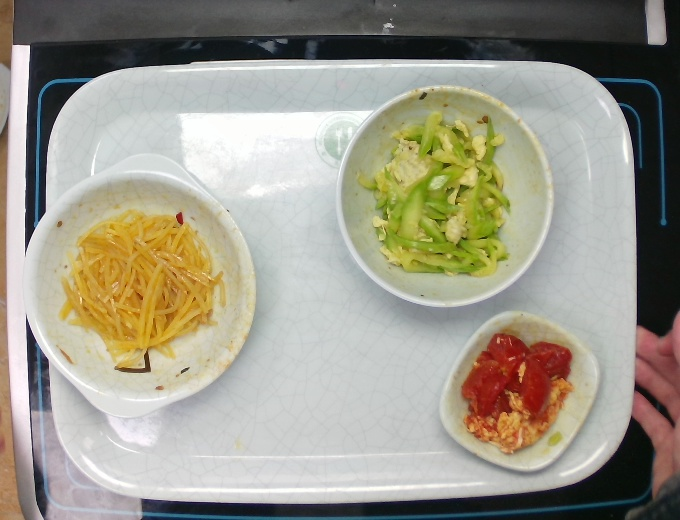JYsf-Fan_Wan: (329, 79, 556, 307)
JYsf-Shuang_Er_Wan: (20, 150, 257, 422)
JYsf-Si_Fang_Die: (437, 311, 602, 473)
